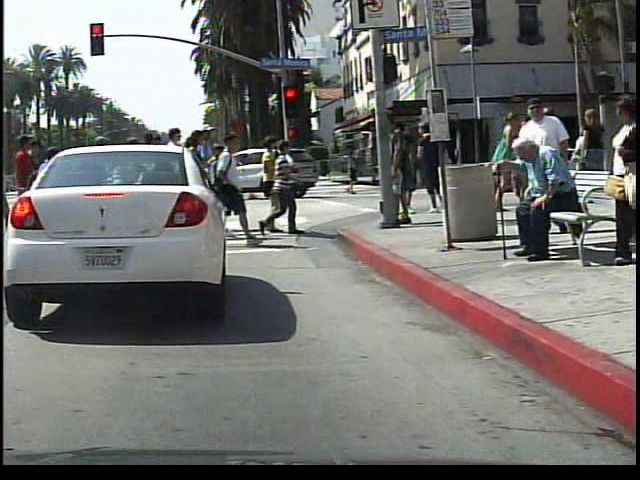person: (492, 131, 586, 262), (584, 84, 640, 271), (479, 106, 526, 216), (335, 144, 361, 196)
